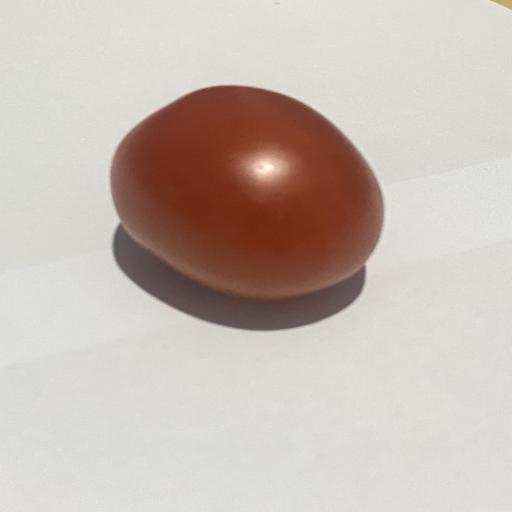ripe: (111, 86, 383, 299)
